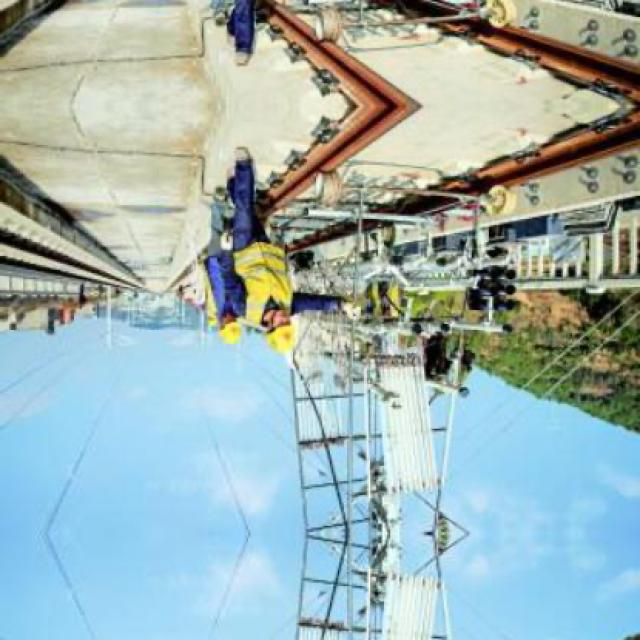con casco: (266, 290, 300, 360), (203, 302, 238, 348)
